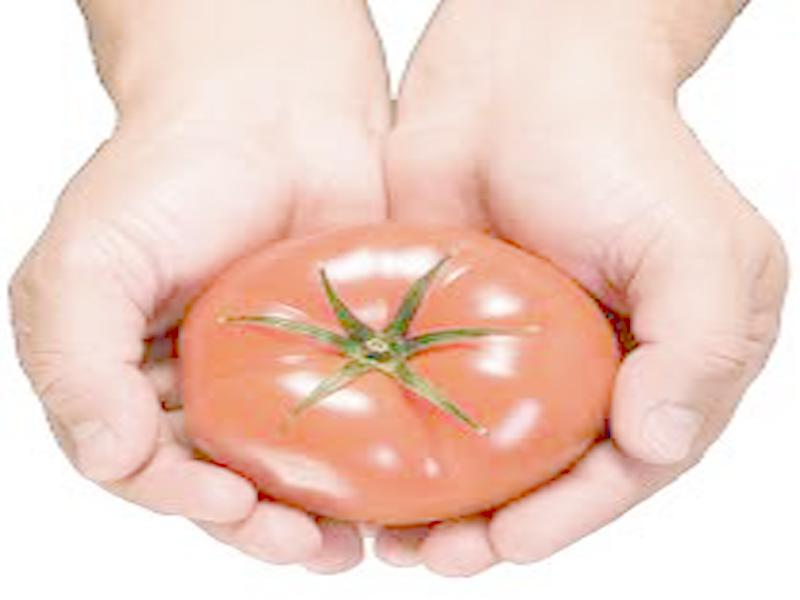Tomato: (176, 227, 620, 520)
